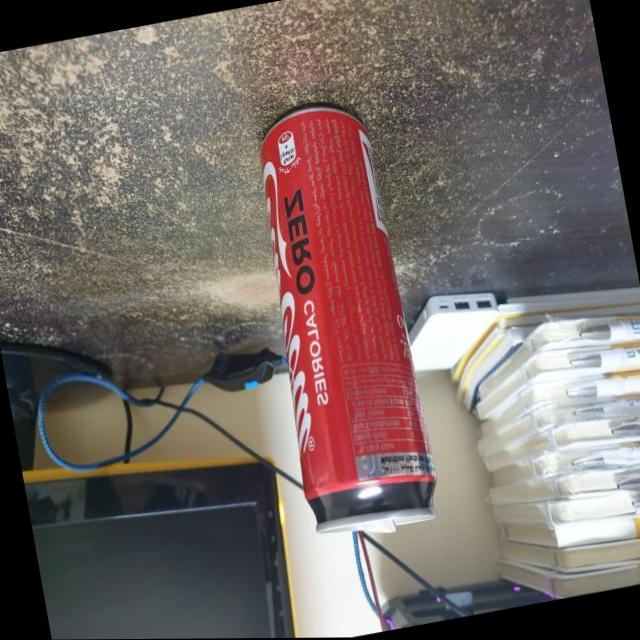metal: (238, 90, 444, 539)
